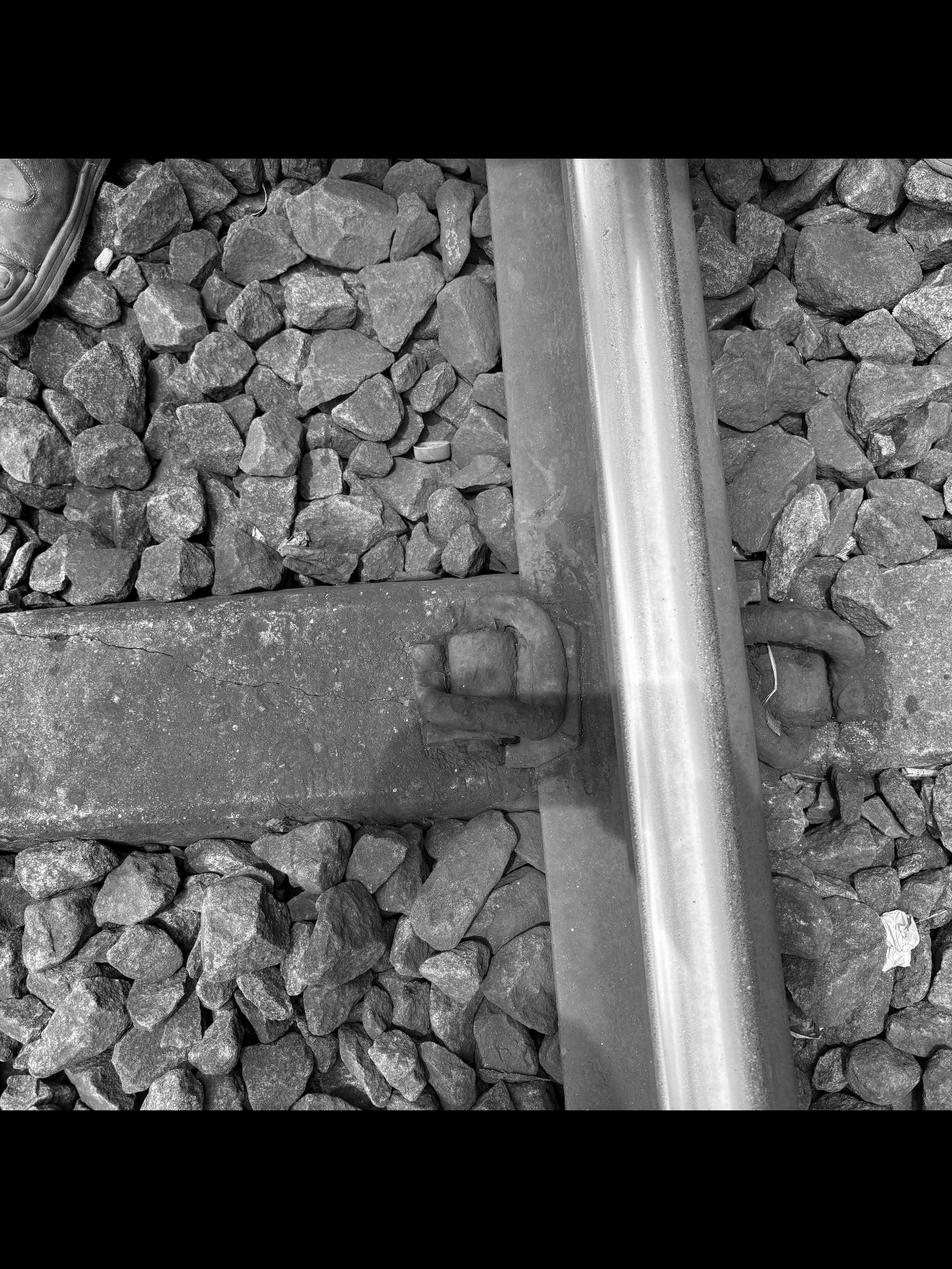cracks under rail seat: (0, 601, 424, 736)
